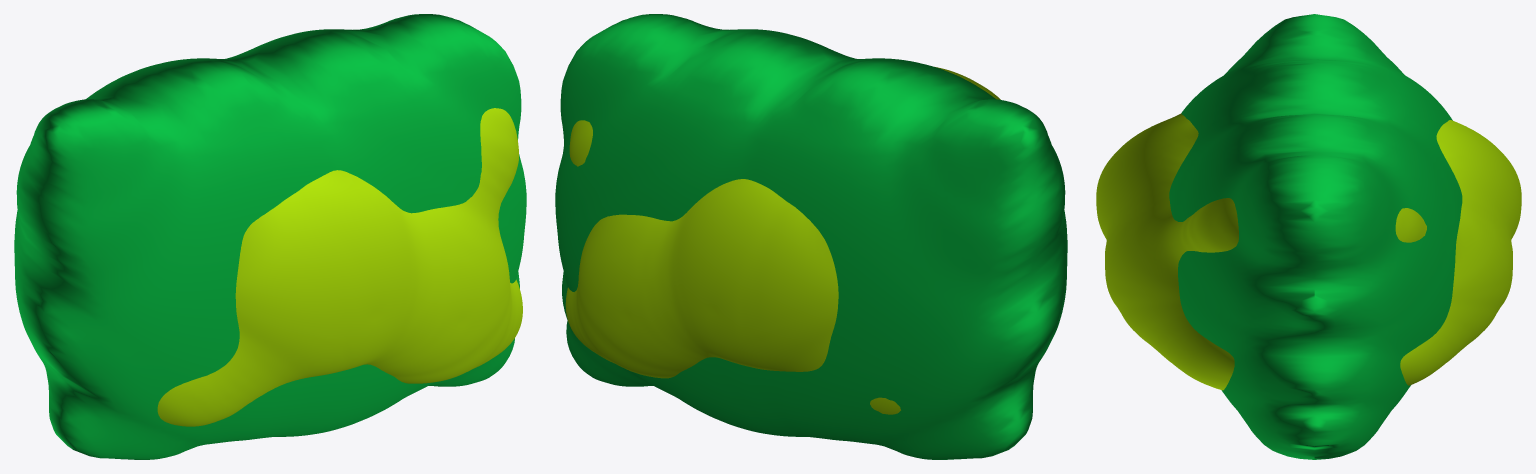
File: Mucus2.fbx
The picture shows the model from 3 angles, left to right: view 1: azimuth 30°, elevation 25°; view 2: azimuth 150°, elevation 25°; view 3: azimuth 270°, elevation 25°; orthographic projection. The views are drawn at different scales.
Parts seen in each view (by area): view 1: node_id42, node_id43; view 2: node_id42, node_id43; view 3: node_id42, node_id43.
Part boxes in pixels (left/top/right/bottom): node_id42: left=14, top=14, right=526, bottom=459; node_id43: left=157, top=108, right=522, bottom=426; node_id42: left=555, top=14, right=1067, bottom=459; node_id43: left=565, top=66, right=1000, bottom=414; node_id42: left=1169, top=14, right=1462, bottom=459; node_id43: left=1096, top=113, right=1521, bottom=390.
Size of the model in its own units: 1.21 by 0.9143 by 1.17.
